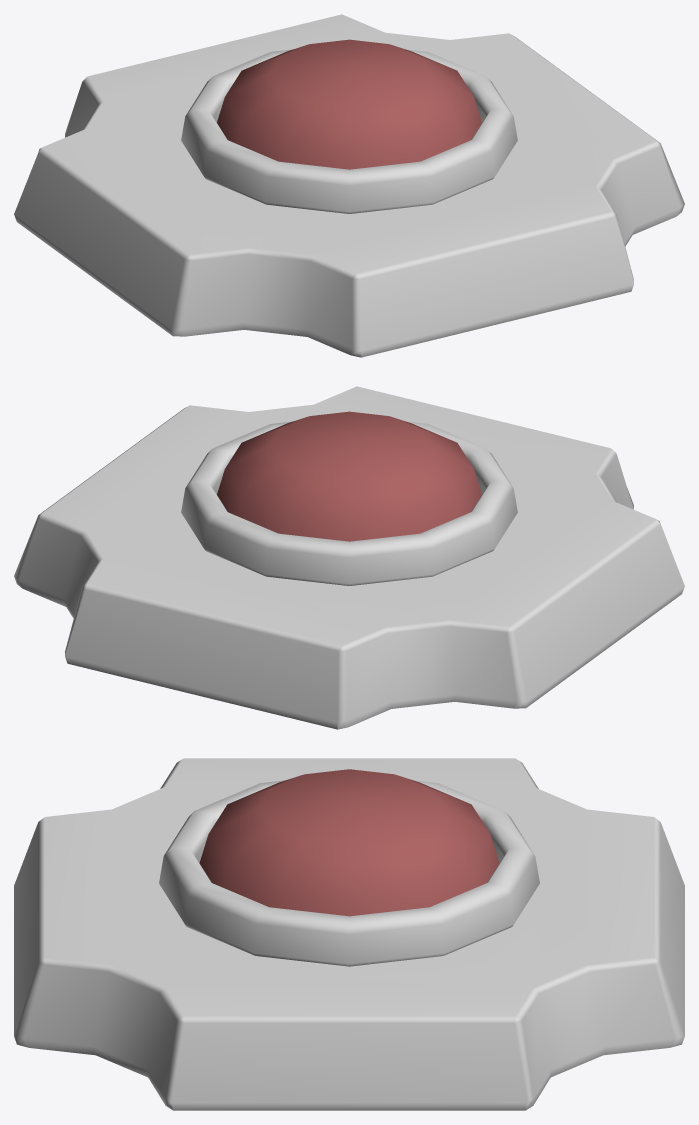
File: SM-Button.fbx
3 renders of one model, top to bottom at view 1: azimuth 30°, elevation 25°; view 2: azimuth 150°, elevation 25°; view 3: azimuth 270°, elevation 25°, orthographic. The views are drawn at different scales.
Visible parts, largest first — view 1: SM_ButtonStatic, SM_ButtonPress; view 2: SM_ButtonStatic, SM_ButtonPress; view 3: SM_ButtonStatic, SM_ButtonPress.
Boxes of the visible parts, bbox=[...] form: SM_ButtonStatic: bbox=[14, 14, 684, 357]; SM_ButtonPress: bbox=[217, 39, 481, 169]; SM_ButtonStatic: bbox=[14, 386, 684, 729]; SM_ButtonPress: bbox=[217, 411, 481, 541]; SM_ButtonStatic: bbox=[14, 758, 684, 1110]; SM_ButtonPress: bbox=[199, 769, 499, 916].
Size of the model in its own units: 22.21 by 6.19 by 22.21.
